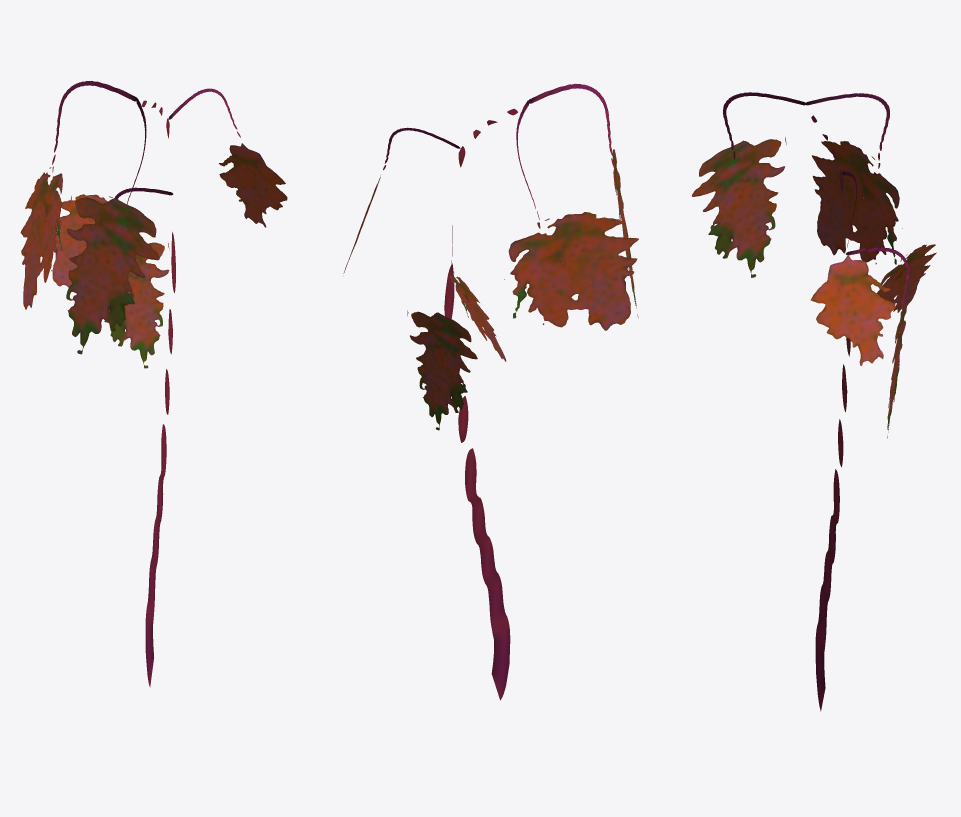
File: Spin Reef Flower B1.fbx
3 views of the same model, side by side, from view 1: azimuth 30°, elevation 25°; view 2: azimuth 150°, elevation 25°; view 3: azimuth 270°, elevation 25° (orthographic).
Visible parts, largest first — view 1: Spin Reef Flower B1; view 2: Spin Reef Flower B1; view 3: Spin Reef Flower B1.
Part boxes in pixels (<box>): Spin Reef Flower B1: <box>20,81,287,687</box>; Spin Reef Flower B1: <box>343,83,638,700</box>; Spin Reef Flower B1: <box>692,92,936,711</box>.
Bounding box in the file's own units: 74.74 × 190 × 56.62.
